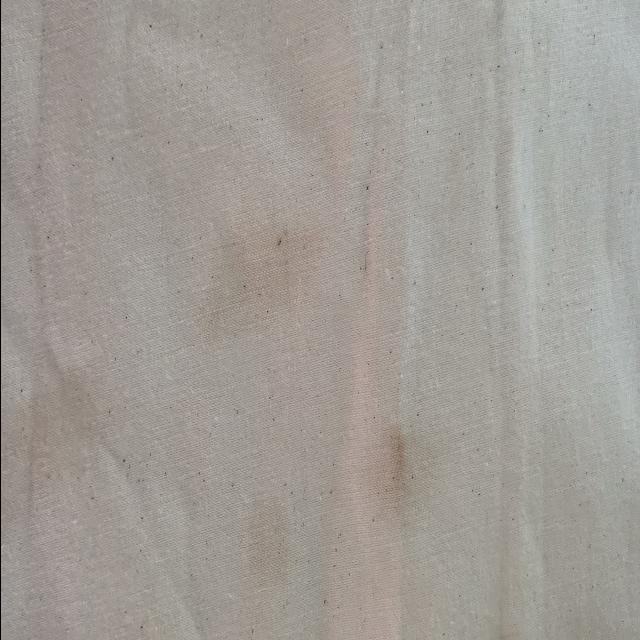taaaches: (200, 182, 320, 374), (353, 390, 432, 536), (236, 460, 304, 626)
